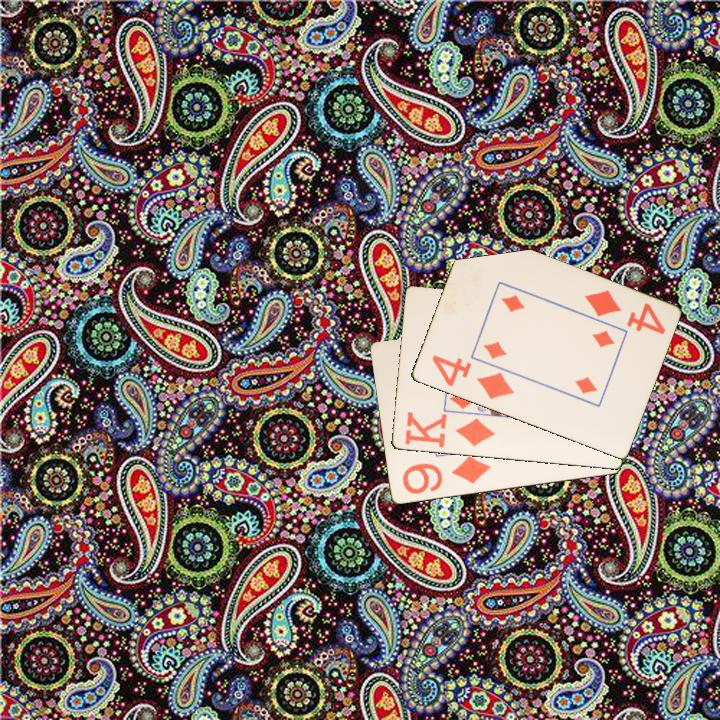4d: (428, 351, 517, 403), (580, 286, 668, 338)
9d: (398, 453, 494, 497)
Kd: (401, 408, 497, 451)
